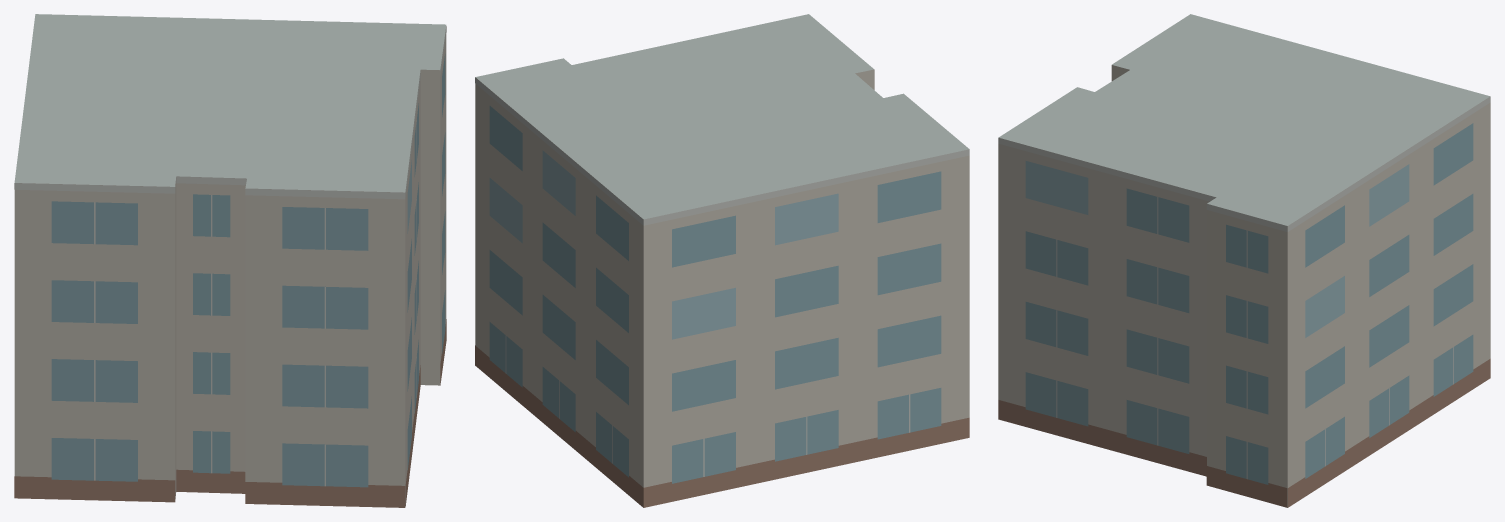
Rendered from survey-upis-32693919.glb.
3 views of the same model, side by side, from view 1: azimuth 30°, elevation 25°; view 2: azimuth 150°, elevation 25°; view 3: azimuth 270°, elevation 25° (orthographic). The views are drawn at different scales.
Parts seen in each view (by area): view 1: survey-upis-32693919.tmp; view 2: survey-upis-32693919.tmp; view 3: survey-upis-32693919.tmp.
Part boxes in pixels (left/top/right/bottom): survey-upis-32693919.tmp: left=14, top=14, right=446, bottom=507; survey-upis-32693919.tmp: left=475, top=14, right=969, bottom=507; survey-upis-32693919.tmp: left=998, top=14, right=1490, bottom=507.
Bounding box in the file's own units: 18.17 × 11.25 × 17.82.
